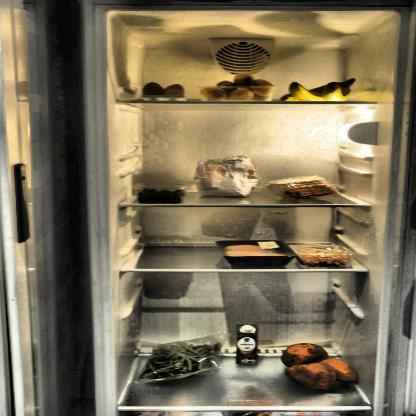banana: (279, 76, 356, 102)
blueberries: (136, 186, 188, 207)
chicken: (222, 242, 291, 258)
eggs: (136, 81, 188, 99)
green_beans: (139, 339, 224, 385)
heavy_cream: (236, 324, 256, 365)
potato: (201, 72, 275, 103)
shrimp: (298, 246, 354, 267)
sweet_potato: (280, 340, 364, 393)
